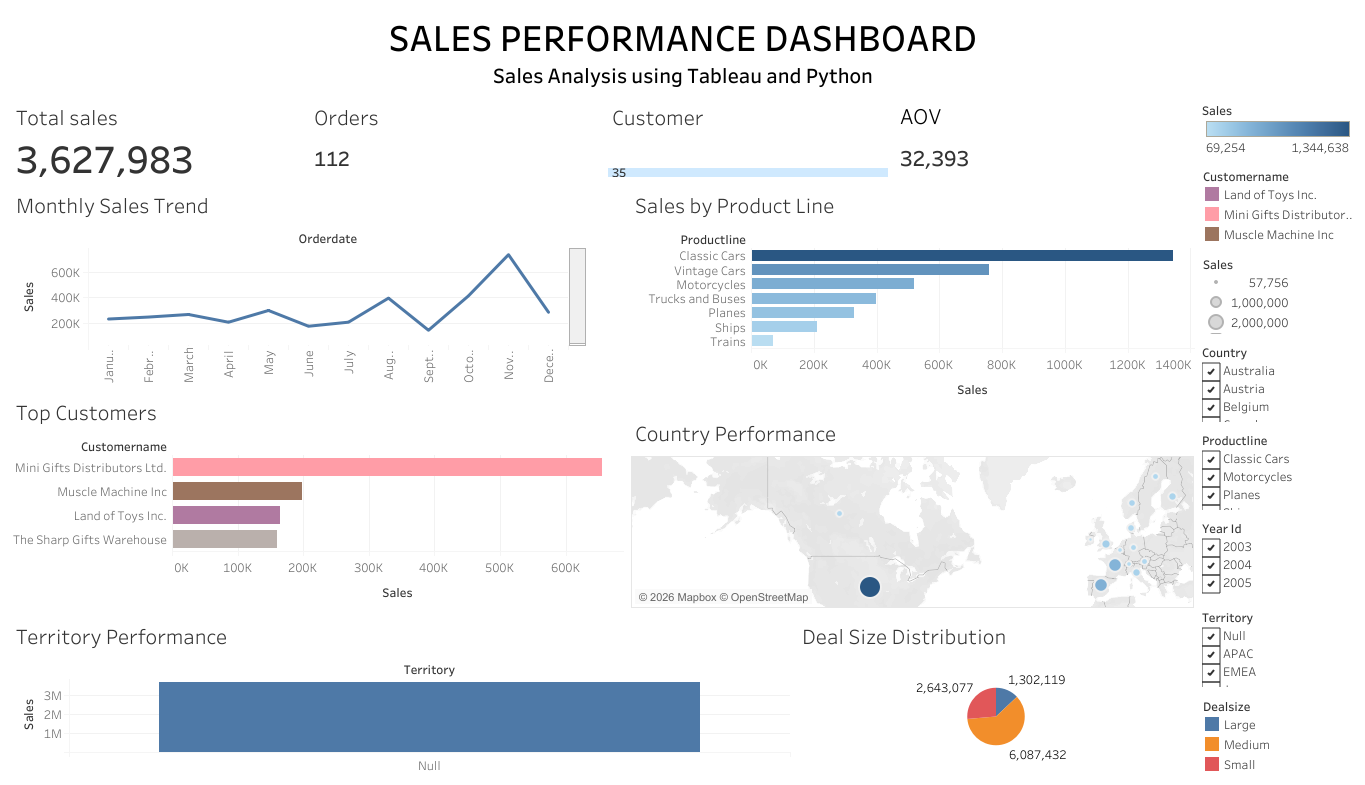

The page's visual inventory and layout, read from the dashboard file:
{"tool":"tableau","page":{"name":"SALES PERFORMANCE DASHBOARD","canvas":[1366,786],"ordinal":0},"visuals":[{"type":"title","box":[8,8,1350,84]},{"type":"worksheet","title":"Total sales","mark":"Automatic","box":[8,92,297.7,88.2]},{"type":"worksheet","title":"Orders","mark":"Automatic","box":[305.7,92,297.9,88.2]},{"type":"worksheet","title":"Customers","mark":"Automatic","box":[603.5,92,288.4,88.2]},{"type":"worksheet","title":"AOV","mark":"Automatic","box":[892,92,306,88.2]},{"type":"legend","title":"Sales by Product Line","param":"[federated.00ivtht11sdzne1frirhg0kg614h].[sum:SALES:qk]","box":[1198,92,160,65]},{"type":"legend","title":"Top Customers","param":"[federated.00ivtht11sdzne1frirhg0kg614h].[none:CUSTOMERNAME:nk]","box":[1198,157,160,89.2]},{"type":"worksheet","title":"Monthly Sales Trend","mark":"Automatic","rows":["SALES"],"cols":["ORDERDATE"],"box":[8,180.2,618.9,207.7]},{"type":"worksheet","title":"Sales by Product Line","mark":"Automatic","rows":["PRODUCTLINE"],"cols":["SALES"],"box":[627,180.2,571,228.1]},{"type":"legend","title":"Country Performance","param":"[federated.00ivtht11sdzne1frirhg0kg614h].[sum:SALES:qk]","box":[1198,246.2,160,89.2]},{"type":"filter","title":"Deal Size Distribution","param":"[federated.00ivtht11sdzne1frirhg0kg614h].[none:COUNTRY:nk]","box":[1198,335.3,160,89.2]},{"type":"worksheet","title":"Top Customers","mark":"Automatic","rows":["CUSTOMERNAME"],"cols":["SALES"],"box":[8,387.9,618.9,223.4]},{"type":"worksheet","title":"Country Performance","mark":"Automatic","box":[627,408.2,571,203]},{"type":"filter","title":"Deal Size Distribution","param":"[federated.00ivtht11sdzne1frirhg0kg614h].[none:PRODUCTLINE:nk]","box":[1198,424.5,160,89.2]},{"type":"filter","title":"Deal Size Distribution","param":"[federated.00ivtht11sdzne1frirhg0kg614h].[none:YEAR_ID:ok]","box":[1198,513.7,160,89.2]},{"type":"filter","title":"Deal Size Distribution","param":"[federated.00ivtht11sdzne1frirhg0kg614h].[none:TERRITORY:nk]","box":[1198,602.8,160,89.2]},{"type":"worksheet","title":"Territory Performance","mark":"Automatic","rows":["SALES"],"cols":["TERRITORY"],"box":[8,611.3,786,166.7]},{"type":"worksheet","title":"Deal Size Distribution","mark":"Pie","box":[794,611.3,404,166.7]},{"type":"legend","title":"Deal Size Distribution","param":"[federated.00ivtht11sdzne1frirhg0kg614h].[none:DEALSIZE:nk]","box":[1198,692,160,86]}]}

Visuals, with their boxes in screenshot pixels (x1, y1, x2, y2), scaled from the page's 1366x786 canvas onto the 1365x785 screenshot:
title: 8 8 1357 92
"Total sales" worksheet: 8 92 305 180
"Orders" worksheet: 305 92 603 180
"Customers" worksheet: 603 92 891 180
"AOV" worksheet: 891 92 1197 180
"Sales by Product Line" legend: 1197 92 1357 157
"Top Customers" legend: 1197 157 1357 246
"Monthly Sales Trend" worksheet: 8 180 626 387
"Sales by Product Line" worksheet: 627 180 1197 408
"Country Performance" legend: 1197 246 1357 335
"Deal Size Distribution" filter: 1197 335 1357 424
"Top Customers" worksheet: 8 387 626 611
"Country Performance" worksheet: 627 408 1197 610
"Deal Size Distribution" filter: 1197 424 1357 513
"Deal Size Distribution" filter: 1197 513 1357 602
"Deal Size Distribution" filter: 1197 602 1357 691
"Territory Performance" worksheet: 8 611 793 777
"Deal Size Distribution" worksheet (Pie marks): 793 611 1197 777
"Deal Size Distribution" legend: 1197 691 1357 777
